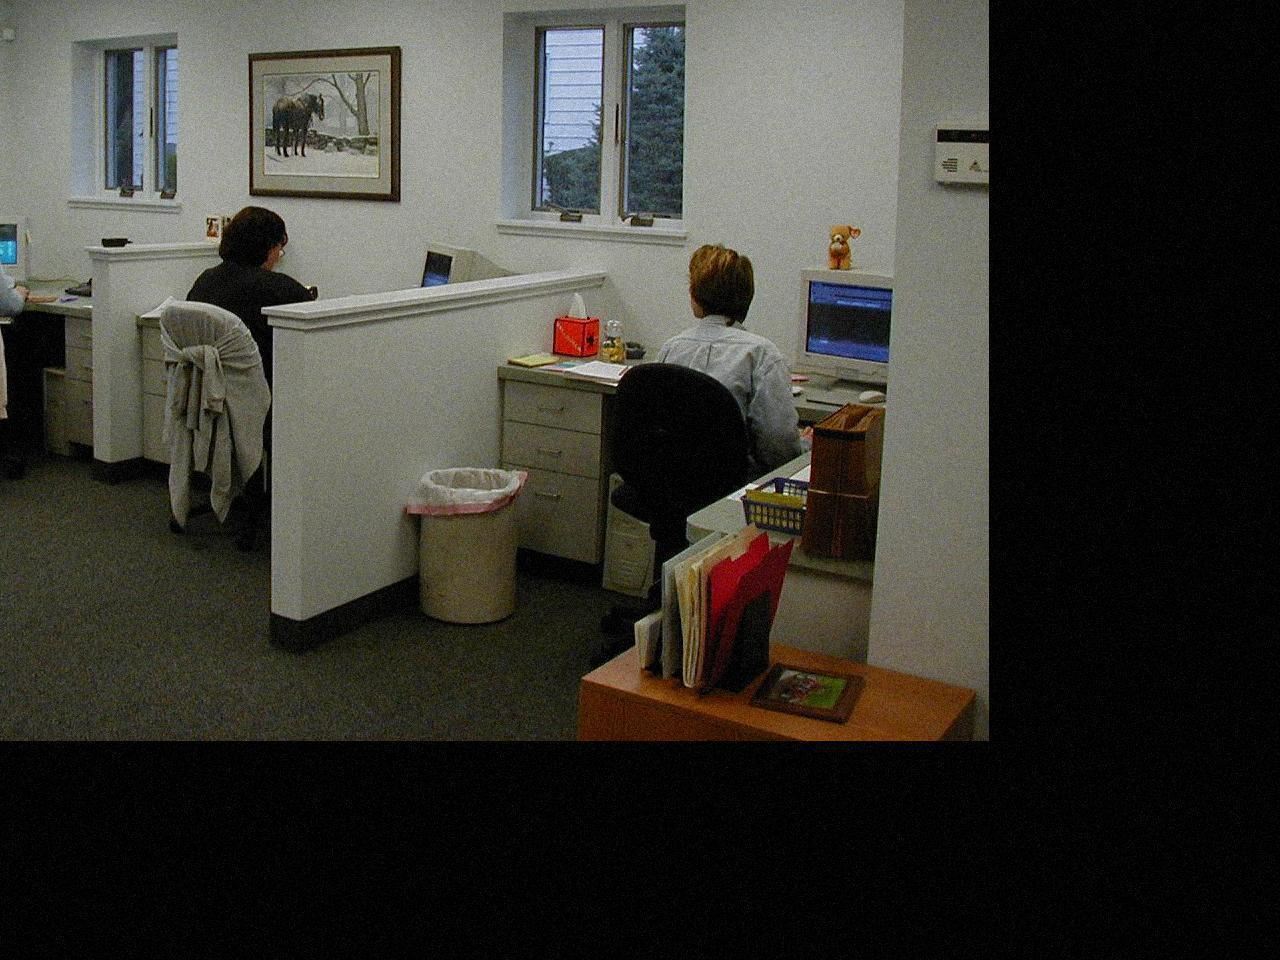Bote de Basura: (408, 448, 536, 635)
